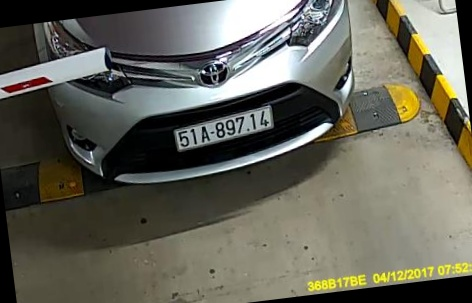plate: (171, 104, 281, 161)
